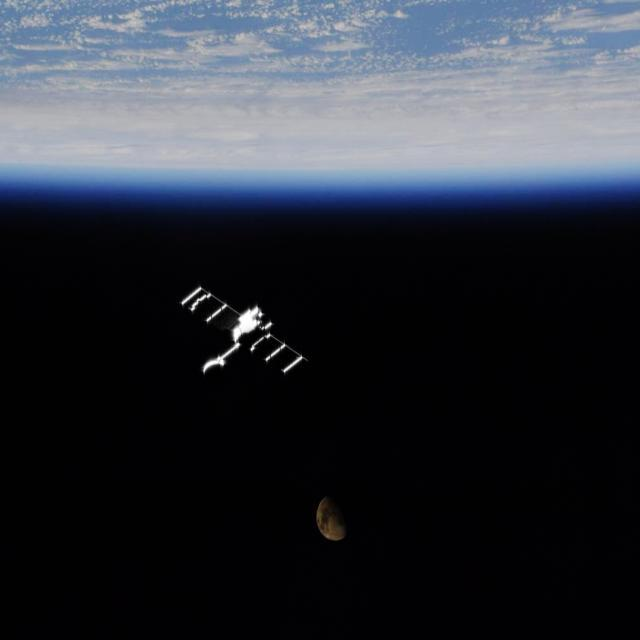satellite: (176, 276, 360, 420)
